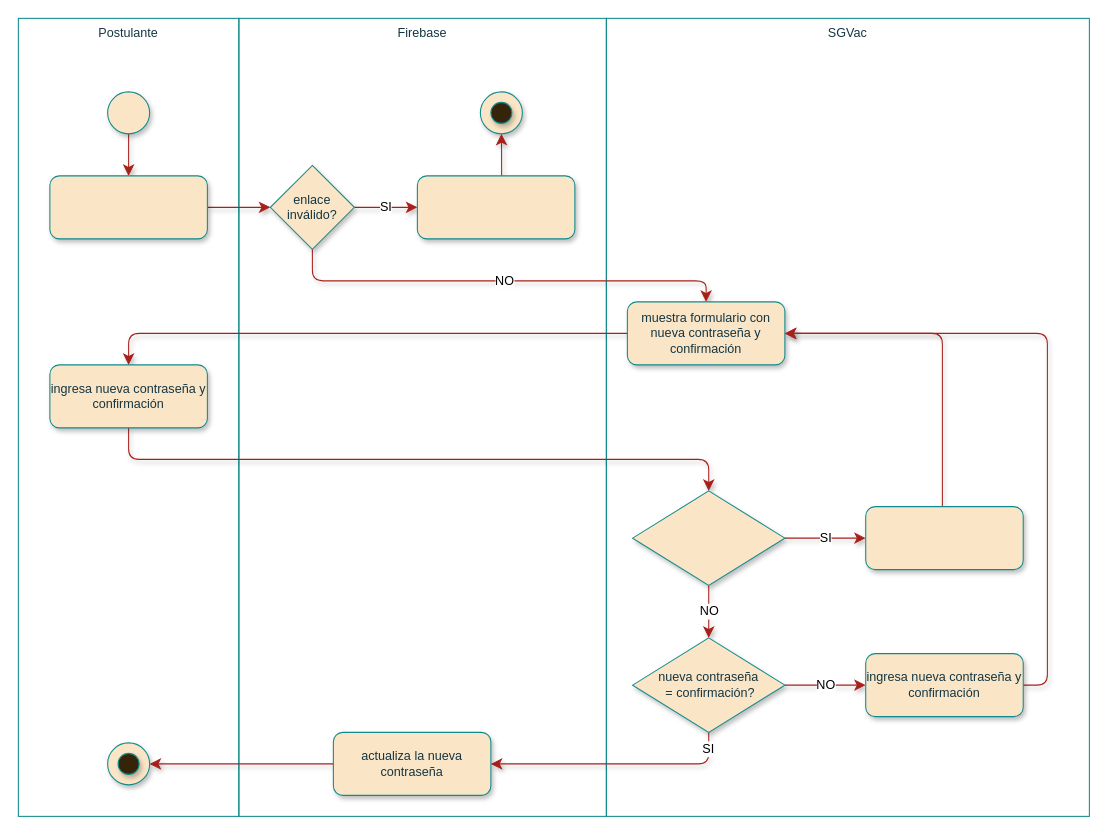
The diagram is 1108 pixels wide and 835 high, and some of its shapes have lost their labels. Each missing label, with the centre of its shape:
"Abre enlace de verificación" goes at (129,208).
"El enlace de verificación es inválido" goes at (496,208).
"la contraseña debe tener al menos 6 caracteres." goes at (945,539).
"nueva contraseña < 6 caracteres?" goes at (709,539).
